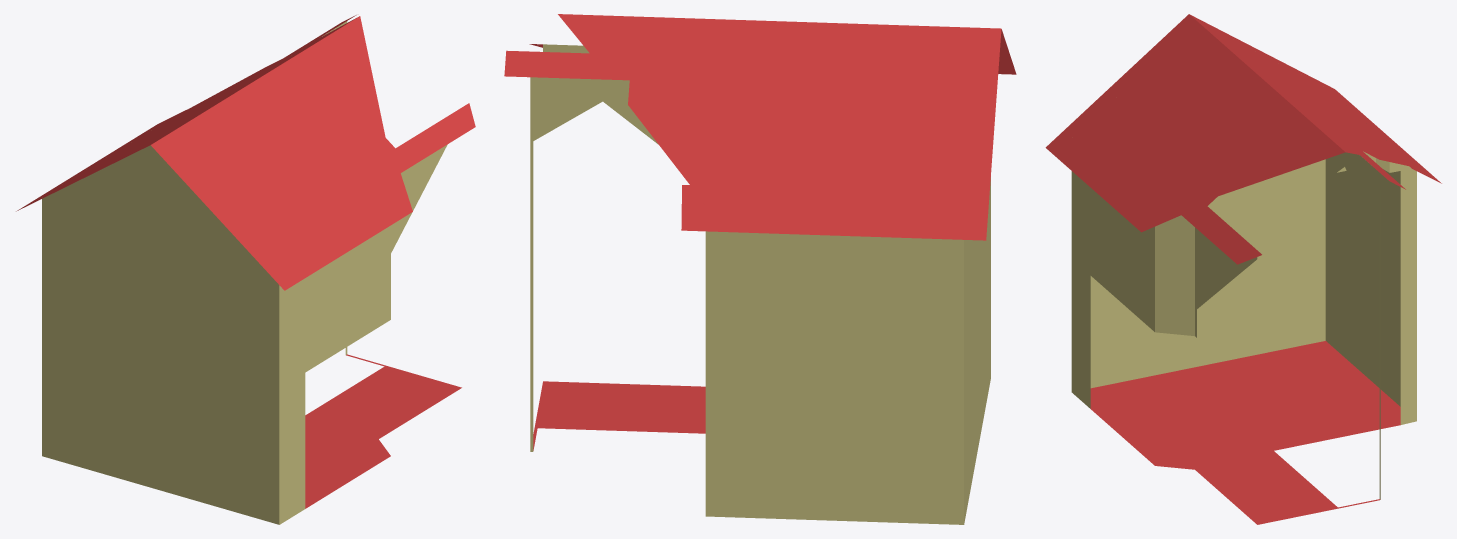
3 views of the same model, side by side, from view 1: azimuth 30°, elevation 25°; view 2: azimuth 150°, elevation 25°; view 3: azimuth 270°, elevation 25° (orthographic). The views are drawn at different scales.
Bounding box in the file's own units: 18.11 × 15.21 × 14.6.
